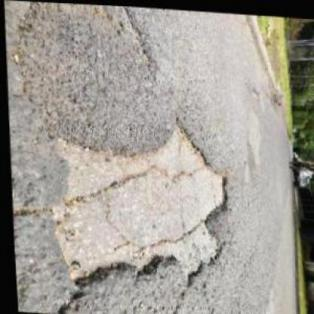Hueco: (44, 111, 235, 300)
